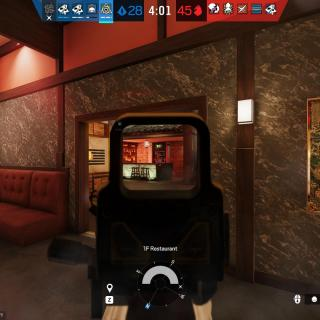Character: (155, 158, 164, 164)
Friend_label: (115, 121, 125, 131)
